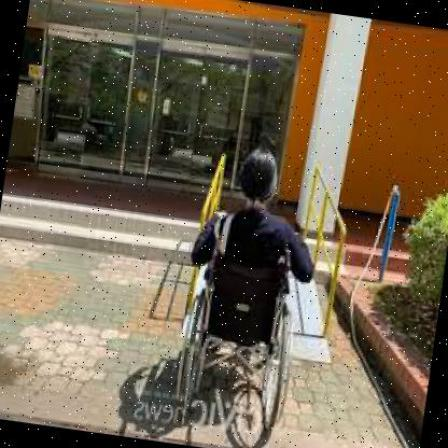wheel: (167, 143, 323, 432)
